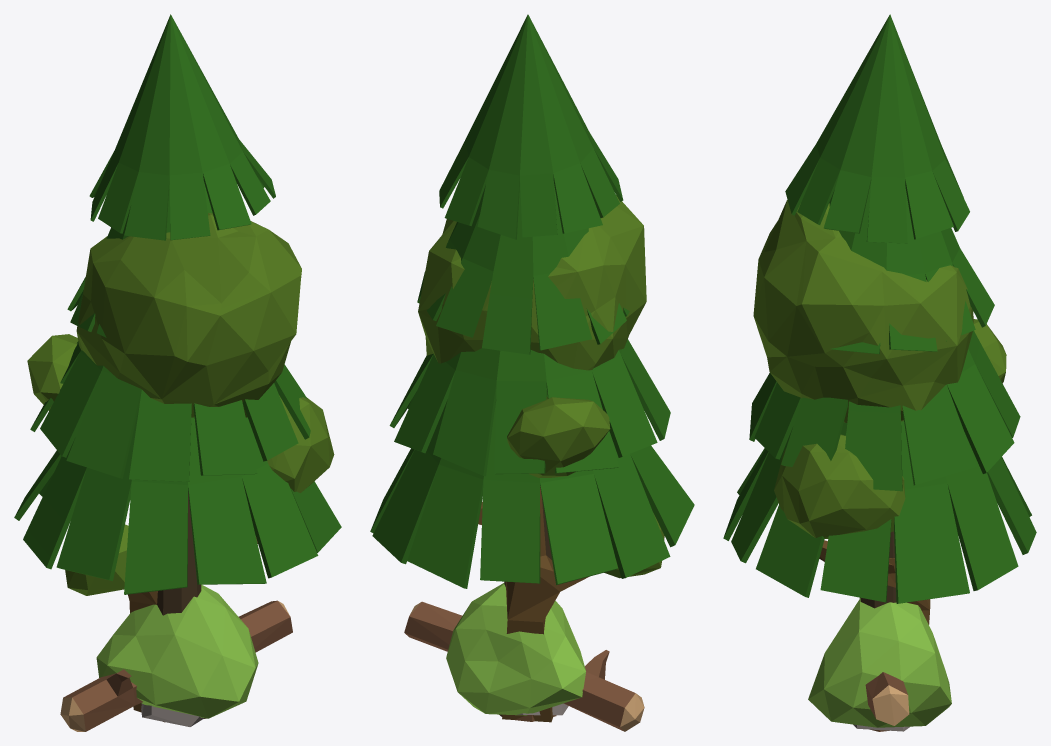
Rendered from goblins-doodads.glb.
3 renders of one model, left to right at view 1: azimuth 30°, elevation 25°; view 2: azimuth 150°, elevation 25°; view 3: azimuth 270°, elevation 25°, orthographic.
Parts seen in each view (by area): view 1: sapin, arbre, buisson, branche, rocher2; view 2: sapin, arbre, buisson, branche; view 3: sapin, arbre, buisson, branche.
Boxes of the visible parts, left/top/right/bottom form: sapin: left=14, top=14, right=341, bottom=718; arbre: left=27, top=213, right=334, bottom=712; buisson: left=96, top=584, right=258, bottom=718; branche: left=60, top=600, right=292, bottom=731; rocher2: left=141, top=703, right=204, bottom=726; sapin: left=370, top=14, right=694, bottom=588; arbre: left=418, top=195, right=664, bottom=722; buisson: left=446, top=583, right=585, bottom=715; branche: left=404, top=601, right=644, bottom=731; sapin: left=723, top=14, right=1036, bottom=608; arbre: left=753, top=200, right=1006, bottom=624; buisson: left=808, top=598, right=951, bottom=727; branche: left=865, top=672, right=909, bottom=725.
Bounding box in the file's own units: 2.24 × 5.44 × 2.2.
